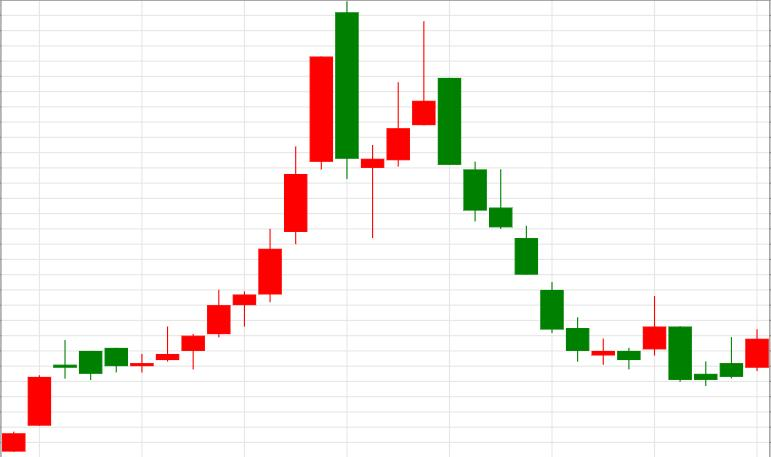bearish_engulfing_fall: (130, 0, 359, 372)
